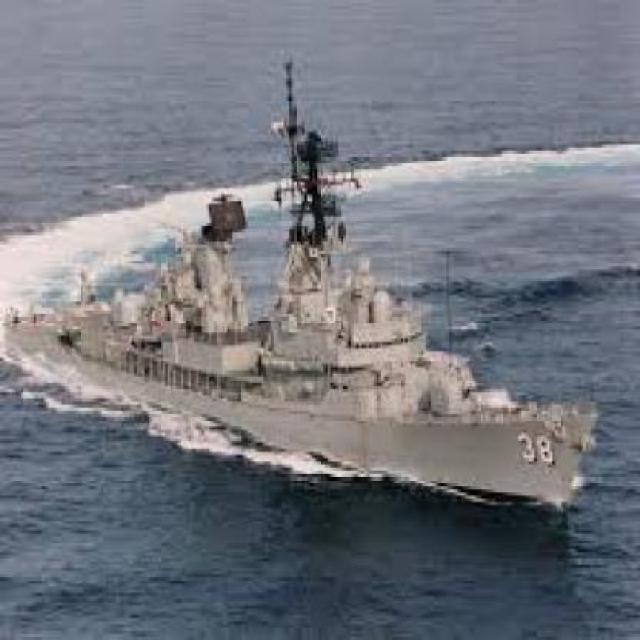warship2: (29, 69, 603, 525)
